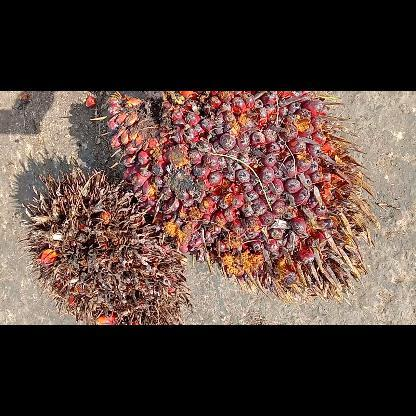TBS masak: (106, 90, 376, 300)
Terlalu masak: (21, 166, 191, 324)
